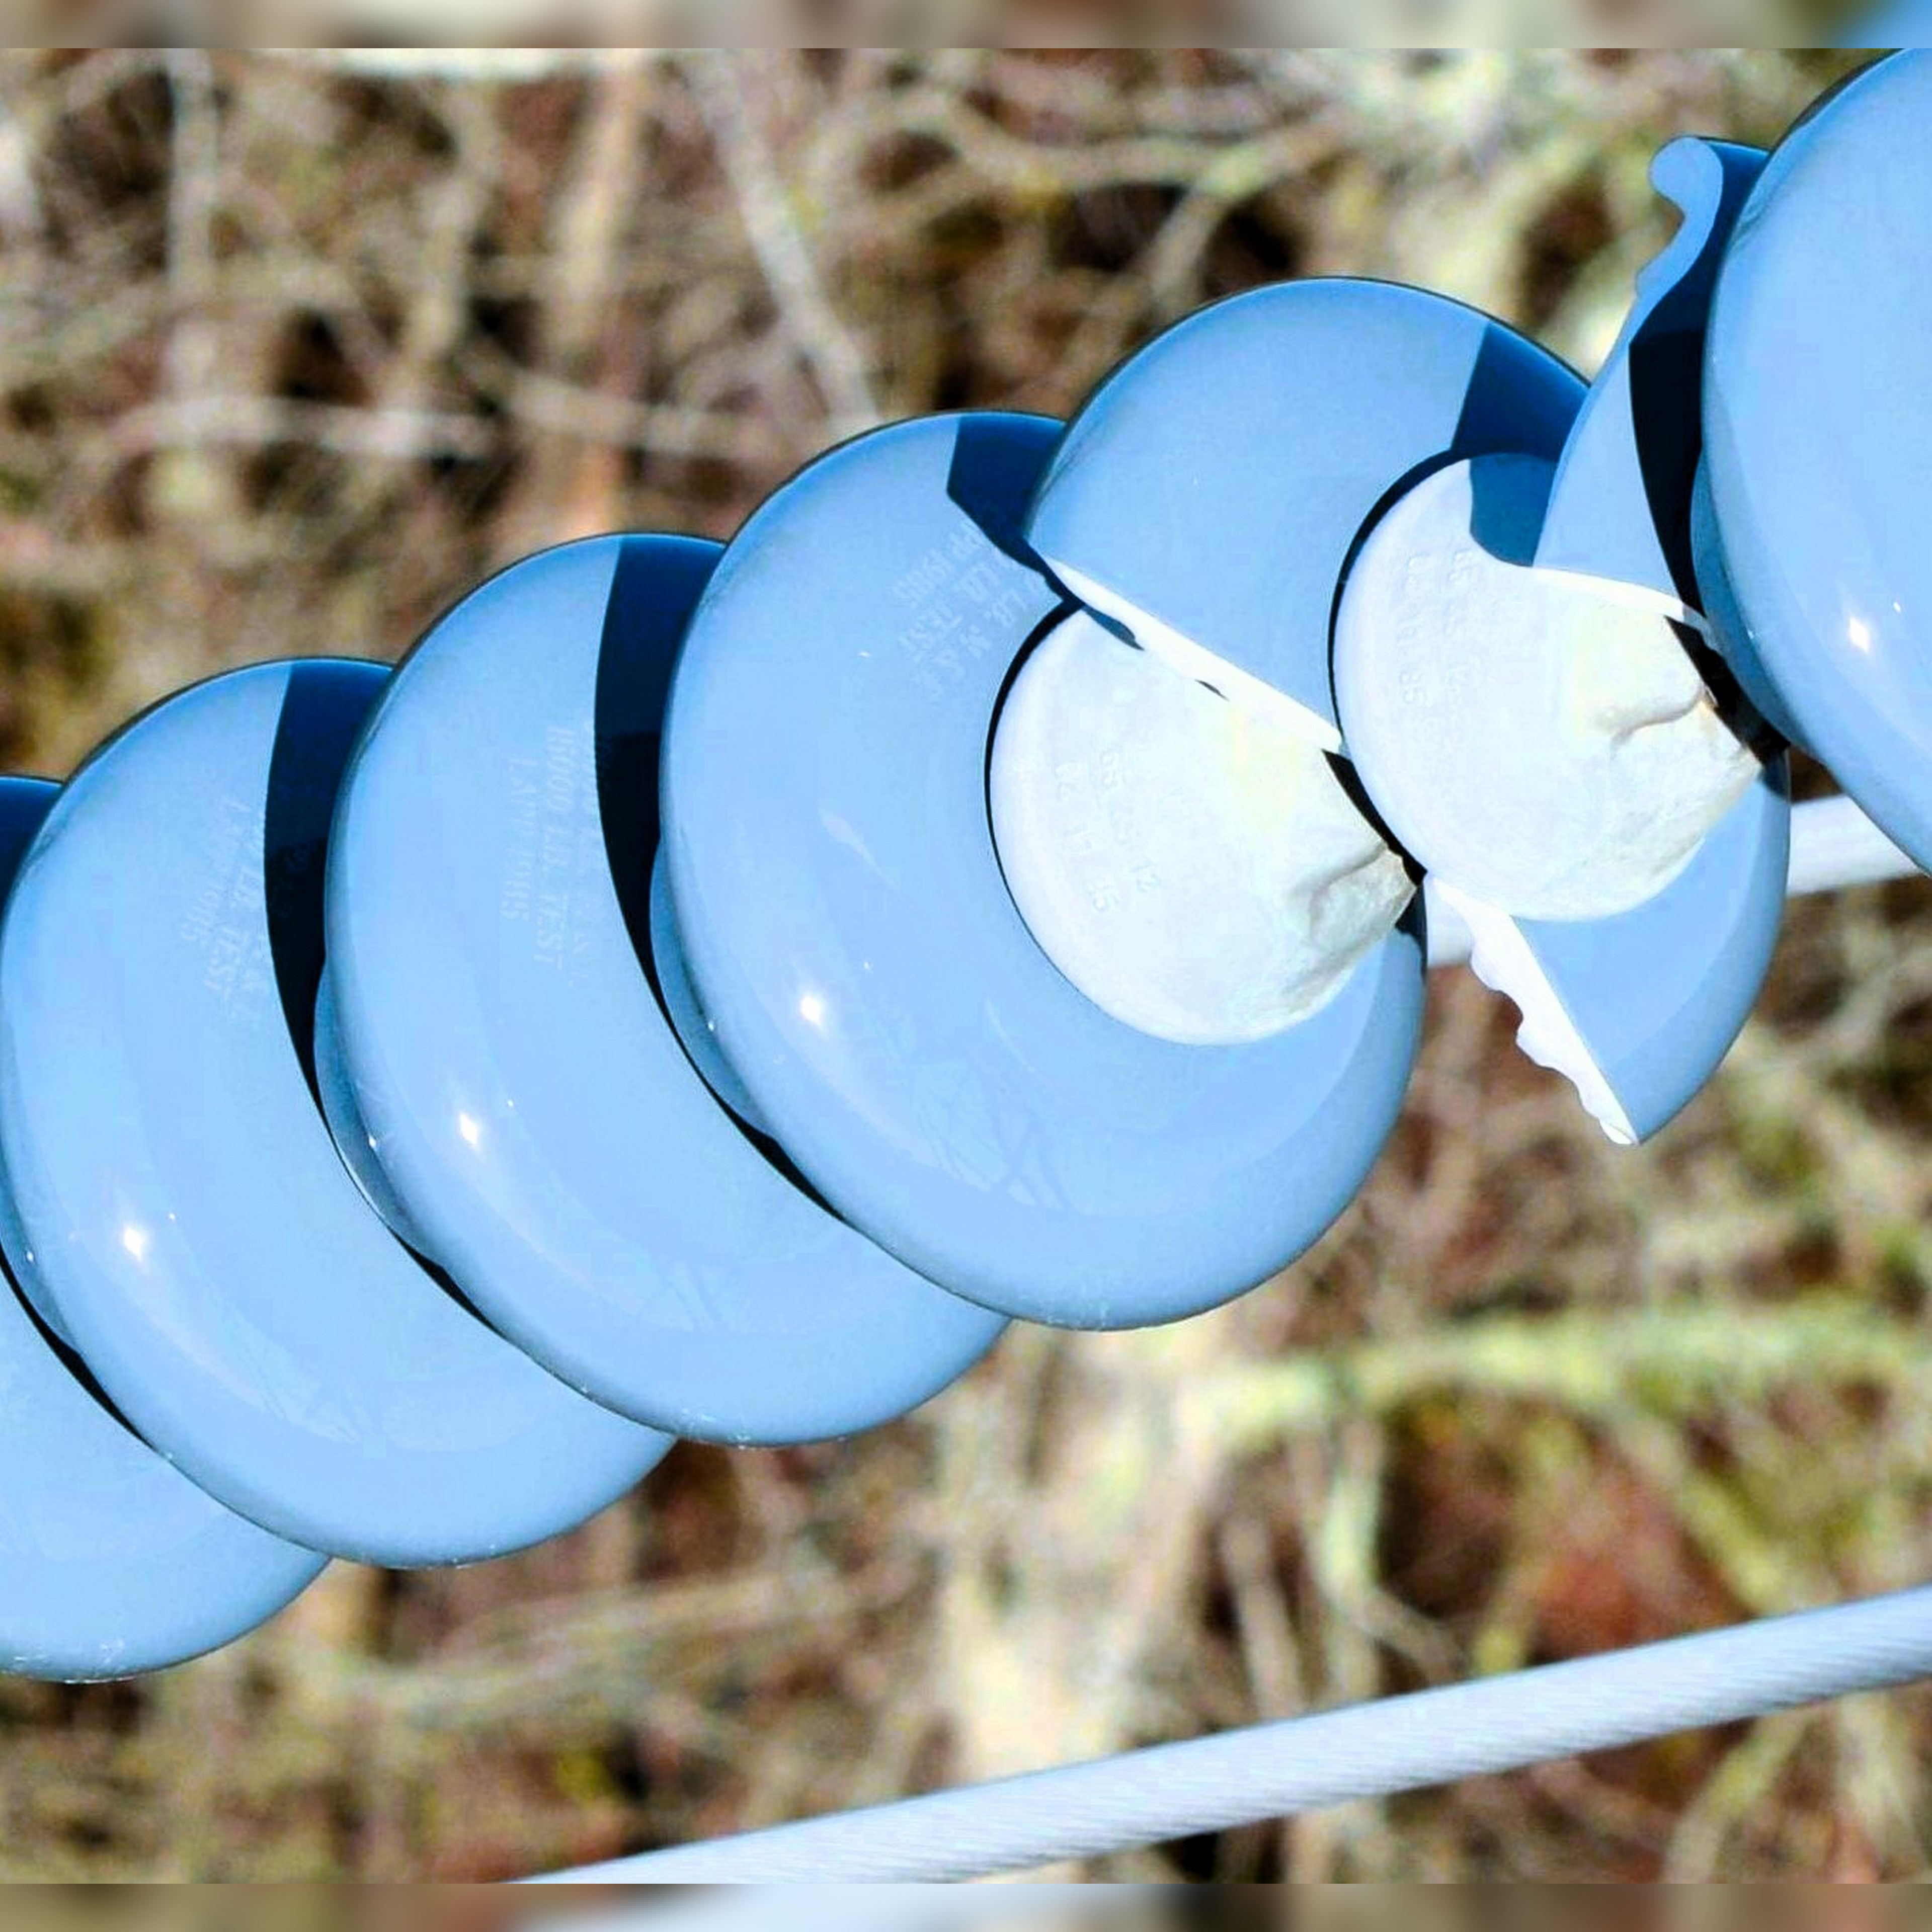insulator breakage: (989, 271, 1861, 1161)
